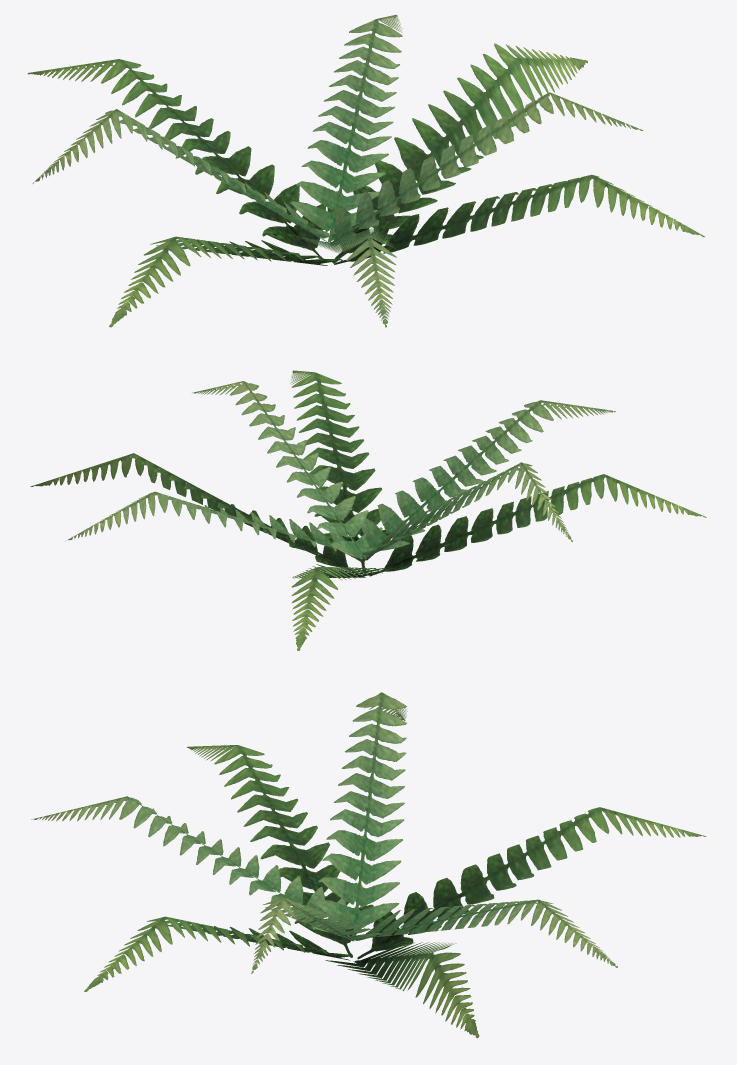
Rendered from frst_fern_green_sm_l0.fbx.
The picture shows the model from 3 angles, top to bottom: view 1: azimuth 30°, elevation 25°; view 2: azimuth 150°, elevation 25°; view 3: azimuth 270°, elevation 25°; orthographic projection. The views are drawn at different scales.
Visible parts, largest first — view 1: mesh_node; view 2: mesh_node; view 3: mesh_node.
Part boxes in pixels (left/top/right/bottom): mesh_node: left=27, top=15, right=704, bottom=327; mesh_node: left=30, top=370, right=706, bottom=650; mesh_node: left=31, top=692, right=705, bottom=1038.
Size of the model in its own units: 1.43 by 0.3984 by 1.42.
